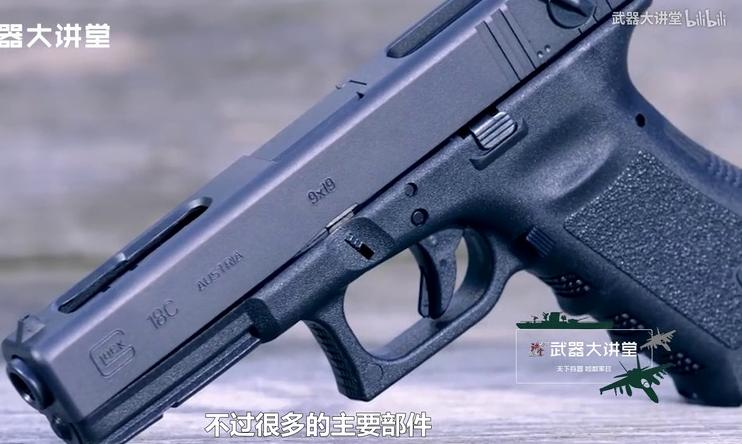gun: (1, 1, 742, 444)
